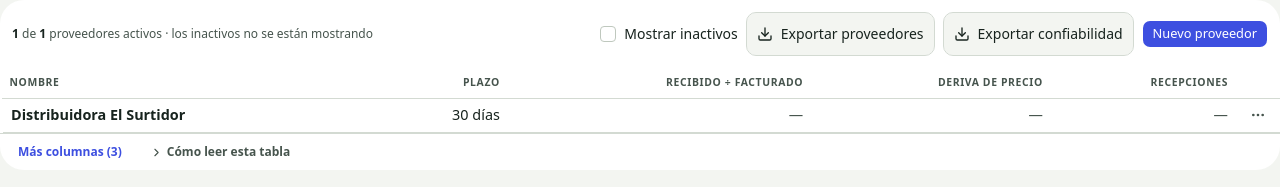
it: SuppliersTab — entidad canónica, baja lógica, NIT duplicado con mensaje específico › con el proveedor obligado a facturar, el formulario lo dice y no lo esconde
Check: the text "Distribuidora El Surtidor" is shown, box [2,98,382,132]
La columna «Factura» va detrás de «Más columnas» (regla 3).
Click the button "Más columnas (3)": (70, 152) [12,140,128,164]
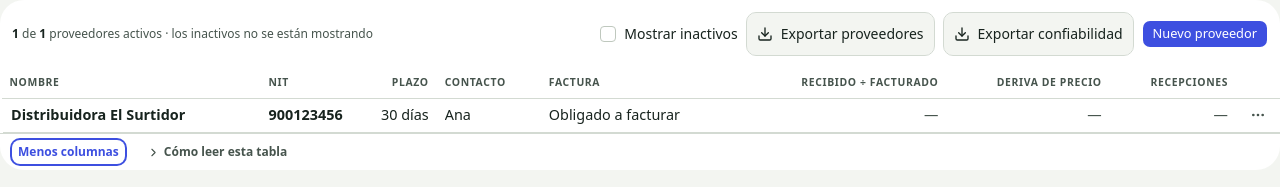
Check: the text "Obligado a facturar" is shown, box [541,98,740,132]
